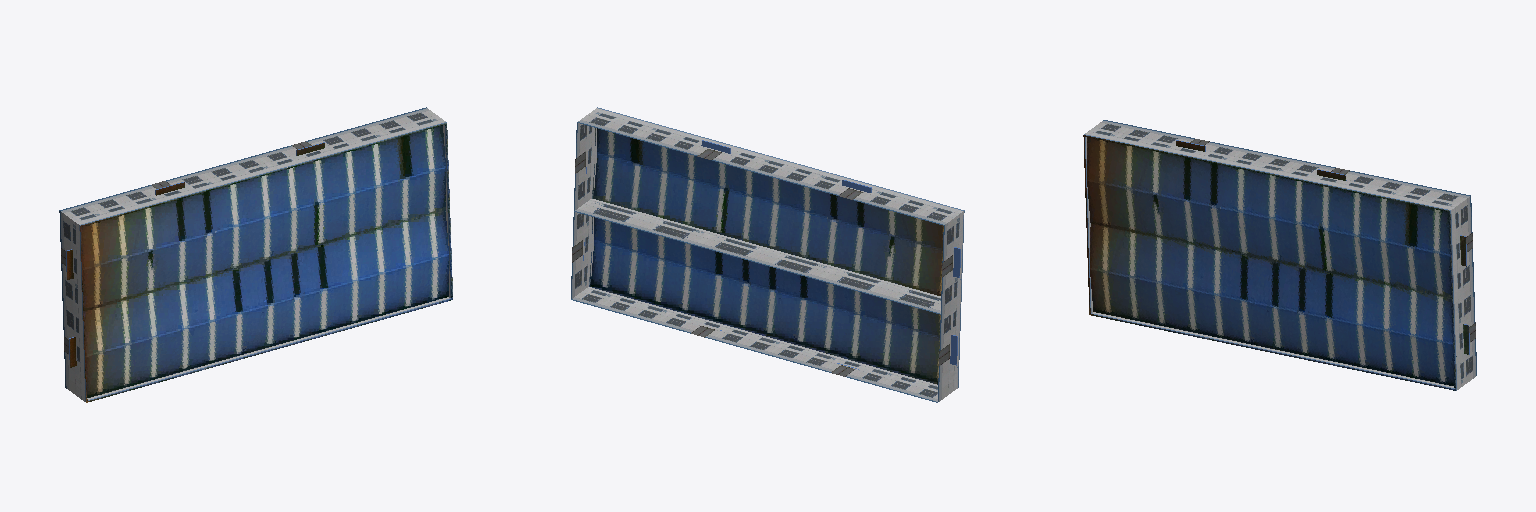
The picture shows the model from 3 angles: view 1: azimuth 30°, elevation 25°; view 2: azimuth 150°, elevation 25°; view 3: azimuth 330°, elevation 25°; orthographic projection.
Parts seen in each view (by area): view 1: Group_MatrixTransform_i95082_Geometry_12, Group_MatrixTransform_i95082_Geometry_11, Group_MatrixTransform_i95082_Geometry_1, Group_MatrixTransform_i95082_Geometry_13, Group_MatrixTransform_i95082_Geometry_0, Group_MatrixTransform_i95082_Geometry_10; view 2: Group_MatrixTransform_i95082_Geometry_11, Group_MatrixTransform_i95082_Geometry_12, Group_MatrixTransform_i95082_Geometry_1, Group_MatrixTransform_i95082_Geometry_0, Group_MatrixTransform_i95082_Geometry_14, Group_MatrixTransform_i95082_Geometry_10; view 3: Group_MatrixTransform_i95082_Geometry_12, Group_MatrixTransform_i95082_Geometry_11, Group_MatrixTransform_i95082_Geometry_1, Group_MatrixTransform_i95082_Geometry_13, Group_MatrixTransform_i95082_Geometry_0.
Boxes of the visible parts, box(x1,y1,x2,y2) form: Group_MatrixTransform_i95082_Geometry_12: box(85, 210, 448, 397); Group_MatrixTransform_i95082_Geometry_11: box(82, 126, 445, 310); Group_MatrixTransform_i95082_Geometry_1: box(59, 107, 450, 400); Group_MatrixTransform_i95082_Geometry_13: box(80, 123, 452, 402); Group_MatrixTransform_i95082_Geometry_0: box(60, 140, 332, 371); Group_MatrixTransform_i95082_Geometry_10: box(64, 358, 85, 401); Group_MatrixTransform_i95082_Geometry_11: box(592, 128, 943, 295); Group_MatrixTransform_i95082_Geometry_12: box(589, 217, 940, 384); Group_MatrixTransform_i95082_Geometry_1: box(571, 107, 964, 402); Group_MatrixTransform_i95082_Geometry_0: box(572, 140, 963, 378); Group_MatrixTransform_i95082_Geometry_14: box(583, 140, 960, 369); Group_MatrixTransform_i95082_Geometry_10: box(938, 358, 959, 401); Group_MatrixTransform_i95082_Geometry_12: box(1090, 224, 1456, 385); Group_MatrixTransform_i95082_Geometry_11: box(1087, 137, 1450, 297); Group_MatrixTransform_i95082_Geometry_1: box(1084, 120, 1476, 390); Group_MatrixTransform_i95082_Geometry_13: box(1083, 135, 1455, 390); Group_MatrixTransform_i95082_Geometry_0: box(1168, 137, 1475, 359).
Bounding box in the file's own units: 81.89 × 40.18 × 7.73.
Materials: 15 (15 with a texture image).